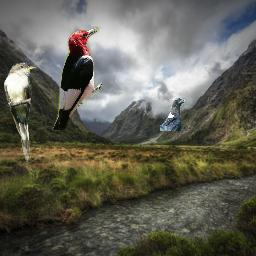Crow: (160, 98, 185, 131)
Cuckoo: (4, 62, 36, 162)
Woodpecker: (51, 26, 102, 130)
